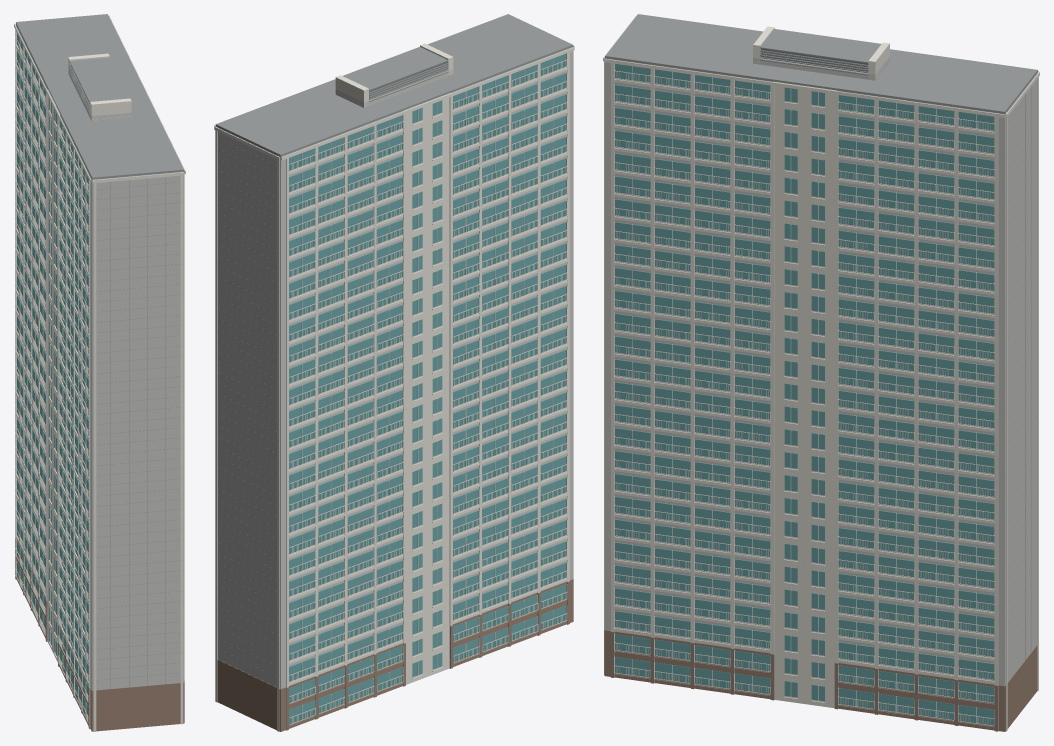
Rendered from bespoke-jamsil-els-108.glb.
3 renders of one model, left to right at view 1: azimuth 30°, elevation 25°; view 2: azimuth 150°, elevation 25°; view 3: azimuth 270°, elevation 25°, orthographic. The views are drawn at different scales.
Parts seen in each view (by area): view 1: Els108_editable_Els108_light_grey_solid_wall, Els108_editable_Els108_turquoise_balcony_glazing, Els108_editable_Els108_modest_grey_flat_roof_caps, Els108_white_exact_chunk_0, Els108_white_exact_chunk_1, Els108_white_exact_chunk_3, Els108_white_exact_chunk_2, Els108_editable_Els108_muted_ground_wall, Els108_white_exact_chunk_6, Els108_white_exact_chunk_4; view 2: Els108_editable_Els108_turquoise_balcony_glazing, Els108_editable_Els108_light_grey_solid_wall, Els108_white_exact_chunk_0, Els108_white_exact_chunk_1, Els108_white_exact_chunk_2, Els108_editable_Els108_modest_grey_flat_roof_caps, Els108_white_exact_chunk_3, Els108_editable_Els108_muted_ground_wall, Els108_white_exact_chunk_6; view 3: Els108_editable_Els108_turquoise_balcony_glazing, Els108_editable_Els108_light_grey_solid_wall, Els108_white_exact_chunk_3, Els108_white_exact_chunk_4, Els108_white_exact_chunk_6, Els108_white_exact_chunk_5, Els108_editable_Els108_modest_grey_flat_roof_caps, Els108_editable_Els108_muted_ground_wall, Els108_white_exact_chunk_0, Els108_editable_Els108_narrow_charcoal_service_strips.
Part boxes in pixels (x1,y1,x2,y2): Els108_editable_Els108_light_grey_solid_wall: (16, 24, 183, 690); Els108_editable_Els108_turquoise_balcony_glazing: (17, 31, 88, 720); Els108_editable_Els108_modest_grey_flat_roof_caps: (16, 14, 183, 690); Els108_white_exact_chunk_0: (15, 23, 60, 662); Els108_white_exact_chunk_1: (15, 27, 65, 676); Els108_white_exact_chunk_3: (14, 24, 184, 731); Els108_white_exact_chunk_2: (58, 119, 88, 722); Els108_editable_Els108_muted_ground_wall: (15, 538, 184, 731); Els108_white_exact_chunk_6: (68, 15, 185, 174); Els108_white_exact_chunk_4: (152, 105, 184, 681); Els108_editable_Els108_turquoise_balcony_glazing: (289, 53, 566, 724); Els108_editable_Els108_light_grey_solid_wall: (216, 47, 573, 688); Els108_white_exact_chunk_0: (214, 93, 450, 731); Els108_white_exact_chunk_1: (286, 110, 479, 730); Els108_white_exact_chunk_2: (452, 64, 567, 651); Els108_editable_Els108_modest_grey_flat_roof_caps: (215, 14, 573, 685); Els108_white_exact_chunk_3: (281, 45, 574, 668); Els108_editable_Els108_muted_ground_wall: (217, 579, 573, 731); Els108_white_exact_chunk_6: (214, 43, 453, 126); Els108_editable_Els108_turquoise_balcony_glazing: (615, 64, 994, 725); Els108_editable_Els108_light_grey_solid_wall: (605, 57, 1037, 685); Els108_white_exact_chunk_3: (603, 16, 1038, 708); Els108_white_exact_chunk_4: (611, 59, 874, 709); Els108_white_exact_chunk_6: (604, 26, 1004, 730); Els108_white_exact_chunk_5: (838, 95, 954, 720); Els108_editable_Els108_modest_grey_flat_roof_caps: (605, 14, 1037, 682); Els108_editable_Els108_muted_ground_wall: (604, 630, 1037, 731); Els108_white_exact_chunk_0: (1006, 72, 1039, 731); Els108_editable_Els108_narrow_charcoal_service_strips: (760, 48, 868, 71).
Size of the model in its own units: 25.62 by 76.6 by 47.48.
